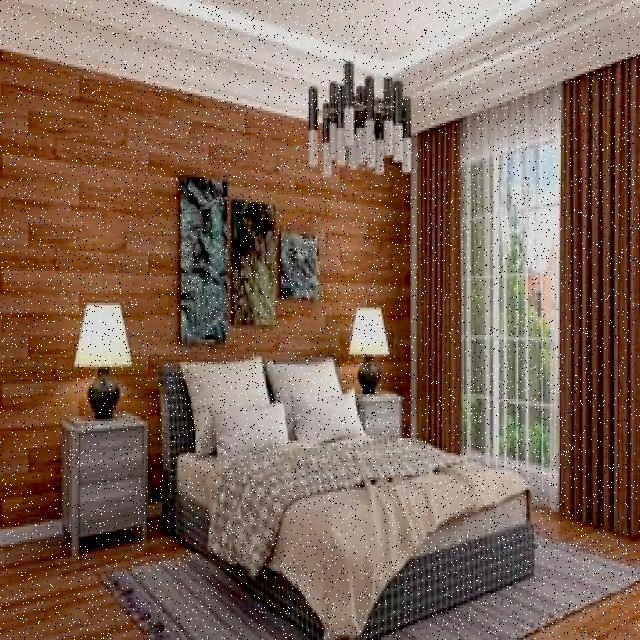bed: (154, 354, 532, 591)
